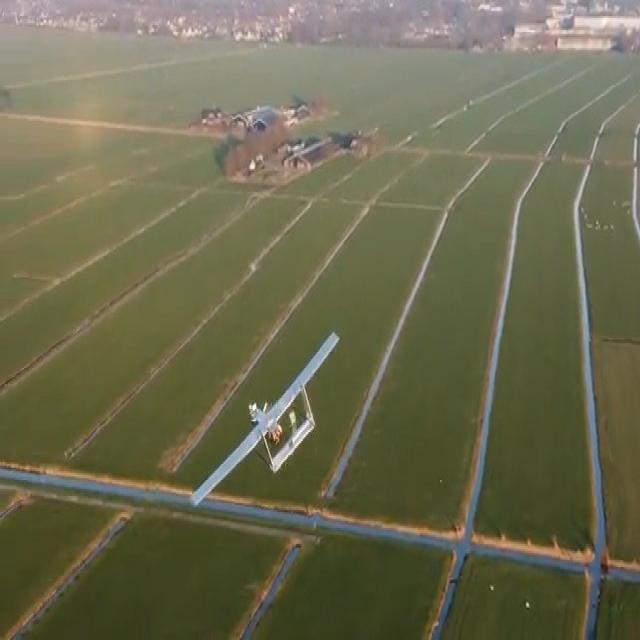iha: (179, 329, 341, 513)
